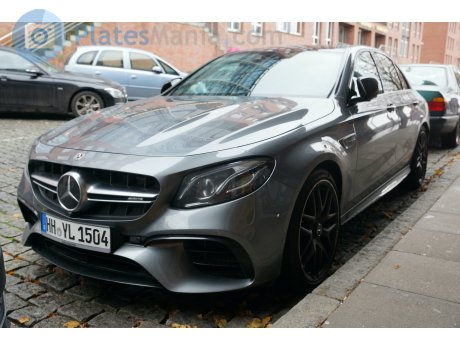License Plates: (43, 211, 103, 242)
